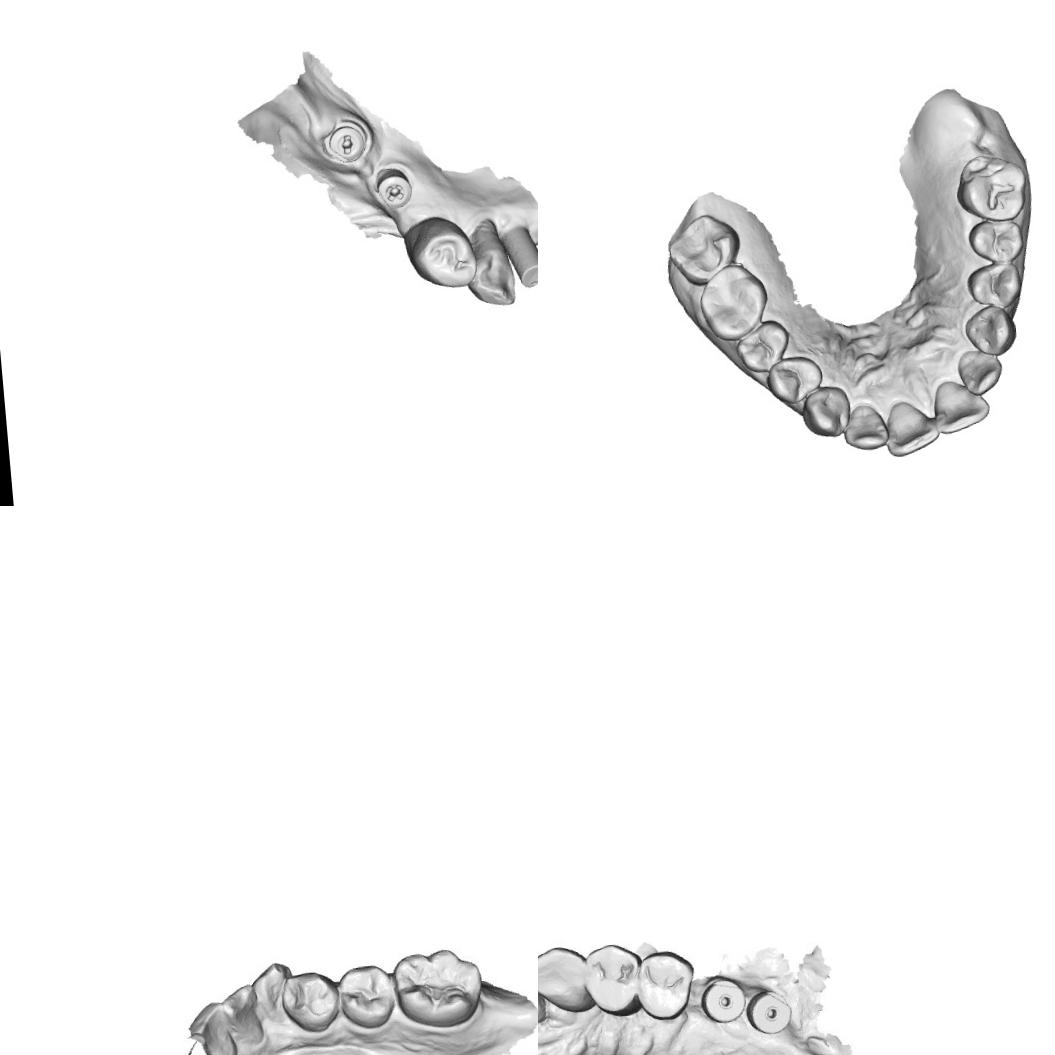canine: (538, 938, 593, 1013), (463, 241, 519, 310), (960, 302, 1020, 358), (798, 382, 854, 441), (250, 959, 293, 1028)
implant: (500, 221, 538, 291), (700, 972, 747, 1024), (748, 985, 794, 1035)
implant_minus: (322, 114, 374, 168)
implant_plus: (370, 156, 413, 209)
incisor: (880, 396, 942, 458), (930, 375, 992, 435), (185, 993, 240, 1055), (216, 984, 266, 1049), (839, 398, 892, 454), (955, 346, 1007, 398)
molar: (396, 948, 482, 1030), (694, 260, 772, 346), (663, 210, 744, 288), (951, 149, 1030, 224)
premolar: (405, 214, 474, 295), (582, 941, 648, 1021), (636, 950, 696, 1026), (338, 958, 398, 1028), (731, 317, 794, 376), (762, 352, 826, 407), (280, 973, 339, 1032), (964, 258, 1025, 312), (965, 215, 1027, 266)
